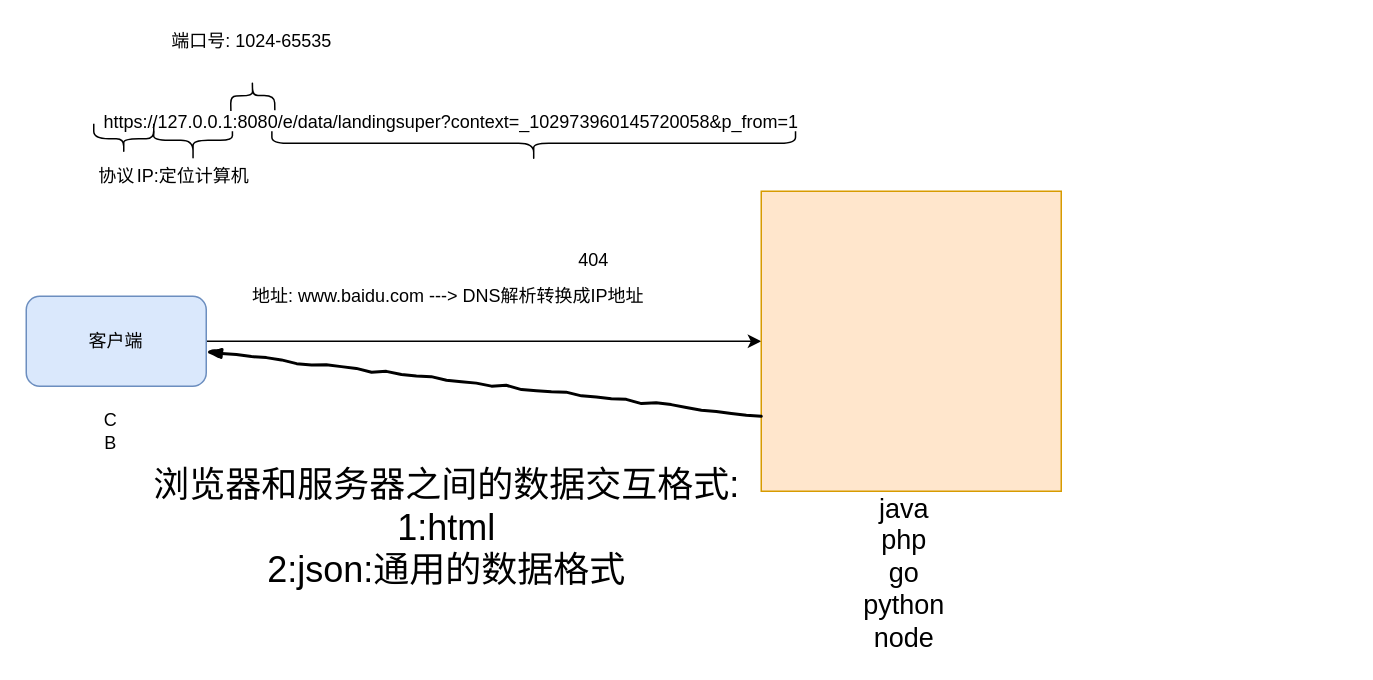
This 1373x680 diagram has some shape labels left out. The shapes that lost their labels are listed below. From the top down, each one's box as (x1, y1, x2, y2) in pixels, then its label:
(270, 130, 796, 161): 参数
(760, 190, 1061, 491): 服务器
